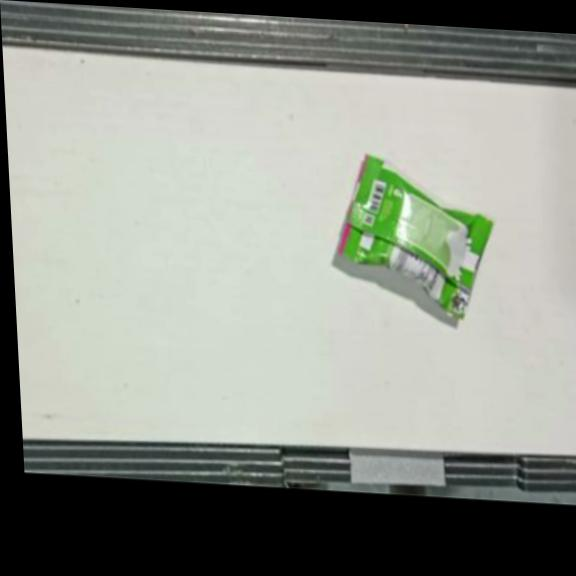Plastik: (330, 153, 500, 321)
